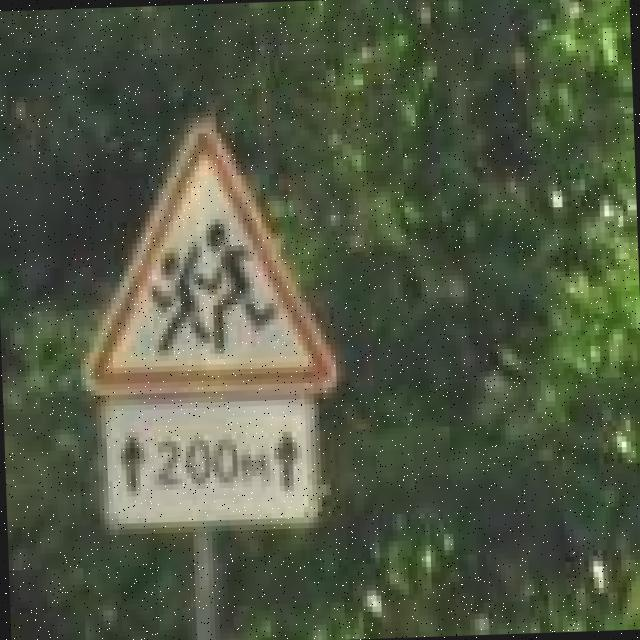Dzieci: (72, 118, 336, 401)
